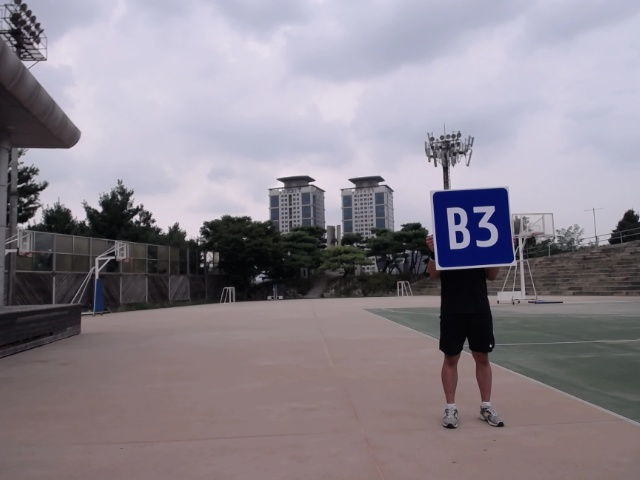delivery_b3: (430, 188, 518, 269)
